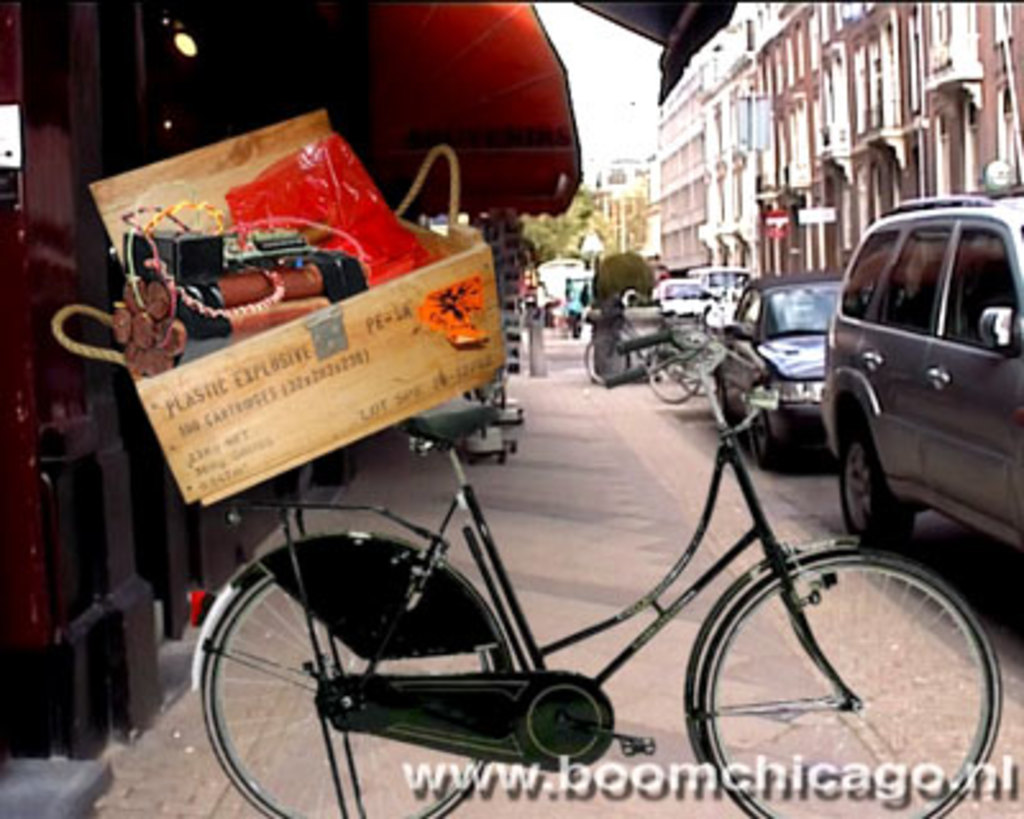Car: (801, 189, 1024, 606), (709, 263, 862, 468), (650, 273, 714, 309), (704, 284, 742, 322)
